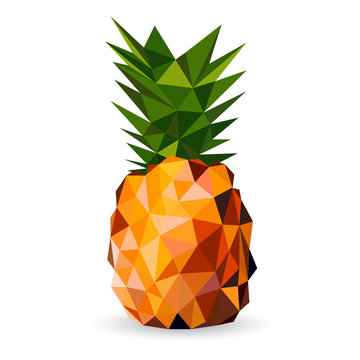Pineapple: (105, 16, 258, 333)
